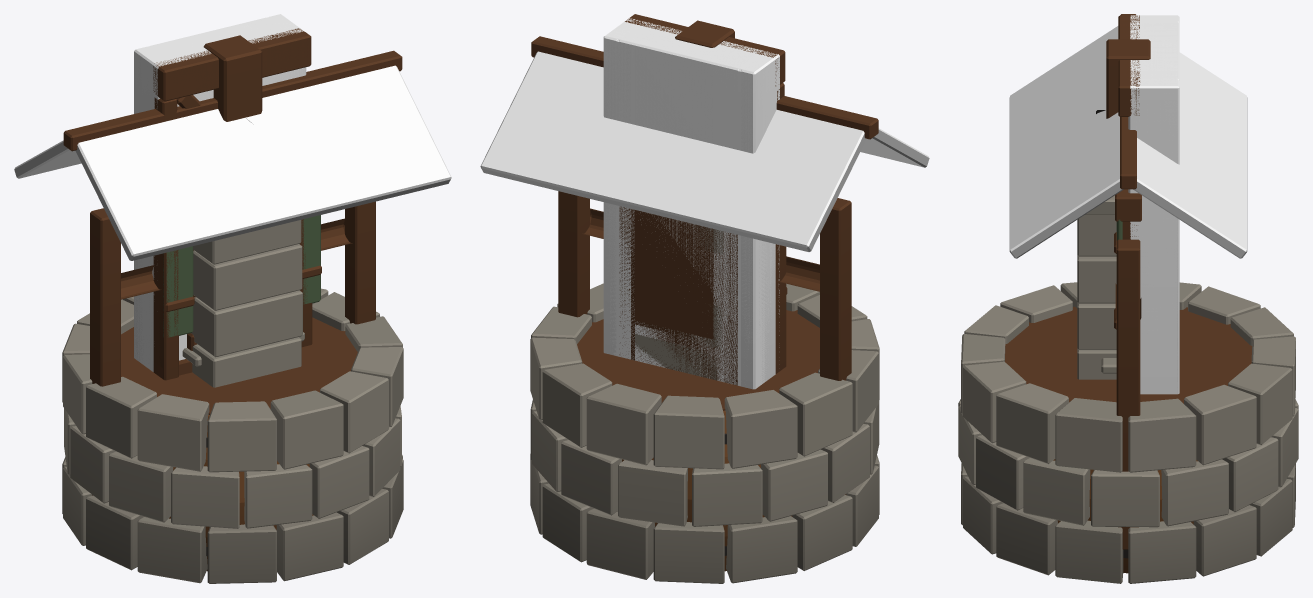
The model's file is v2_ruined_village_kit.glb.
3 renders of one model, left to right at view 1: azimuth 30°, elevation 25°; view 2: azimuth 150°, elevation 25°; view 3: azimuth 270°, elevation 25°, orthographic. The views are drawn at different scales.
Visible parts, largest first — view 1: kit_well, kit_chimney, kit_bay_brace, kit_bay_door, kit_barrel, kit_bay_window, kit_corner; view 2: kit_well, kit_bay_window, kit_bay_door, kit_bay_brace, kit_barrel, kit_chimney, kit_corner; view 3: kit_well, kit_bay_brace, kit_barrel, kit_chimney, kit_bay_door, kit_bay_window, kit_corner.
Part boxes in pixels (box(x1,y1,x2,y2)): kit_well: box(14, 50, 451, 583); kit_chimney: box(191, 220, 302, 387); kit_bay_brace: box(134, 14, 309, 375); kit_bay_door: box(134, 14, 312, 380); kit_barrel: box(121, 317, 357, 571); kit_bay_window: box(134, 17, 321, 374); kit_corner: box(203, 35, 262, 121); kit_well: box(480, 36, 929, 583); kit_bay_window: box(604, 15, 787, 388); kit_bay_door: box(603, 14, 786, 389); kit_bay_brace: box(604, 14, 784, 386); kit_barrel: box(577, 310, 819, 571); kit_chimney: box(635, 224, 723, 380); kit_corner: box(675, 20, 734, 47); kit_well: box(958, 14, 1298, 583); kit_bay_brace: box(1120, 15, 1177, 394); kit_barrel: box(1005, 306, 1252, 573); kit_chimney: box(1077, 195, 1116, 379); kit_bay_door: box(1115, 15, 1179, 394); kit_bay_window: box(1101, 15, 1179, 393); kit_corner: box(1106, 39, 1150, 118).
Bounding box in the file's own units: 2.24 × 3.06 × 2.
